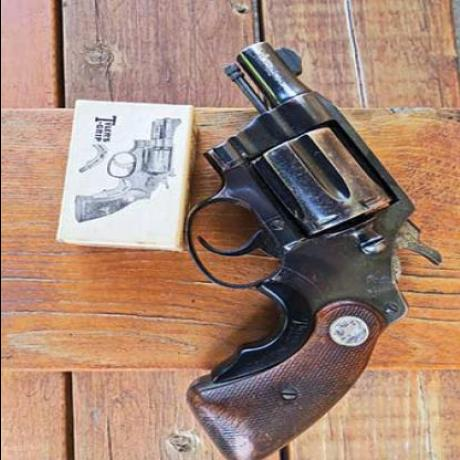weapon: (175, 37, 448, 453)
